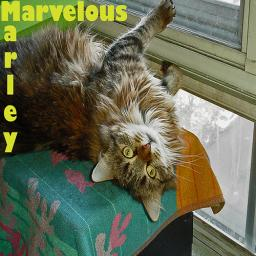catnose: (140, 142, 154, 159)
